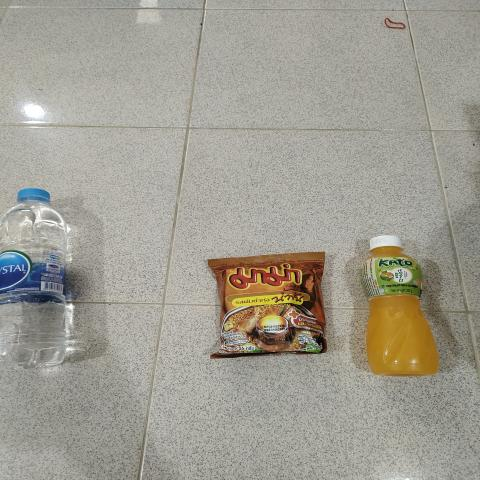crystal: (2, 184, 66, 363)
mama: (225, 256, 321, 355)
